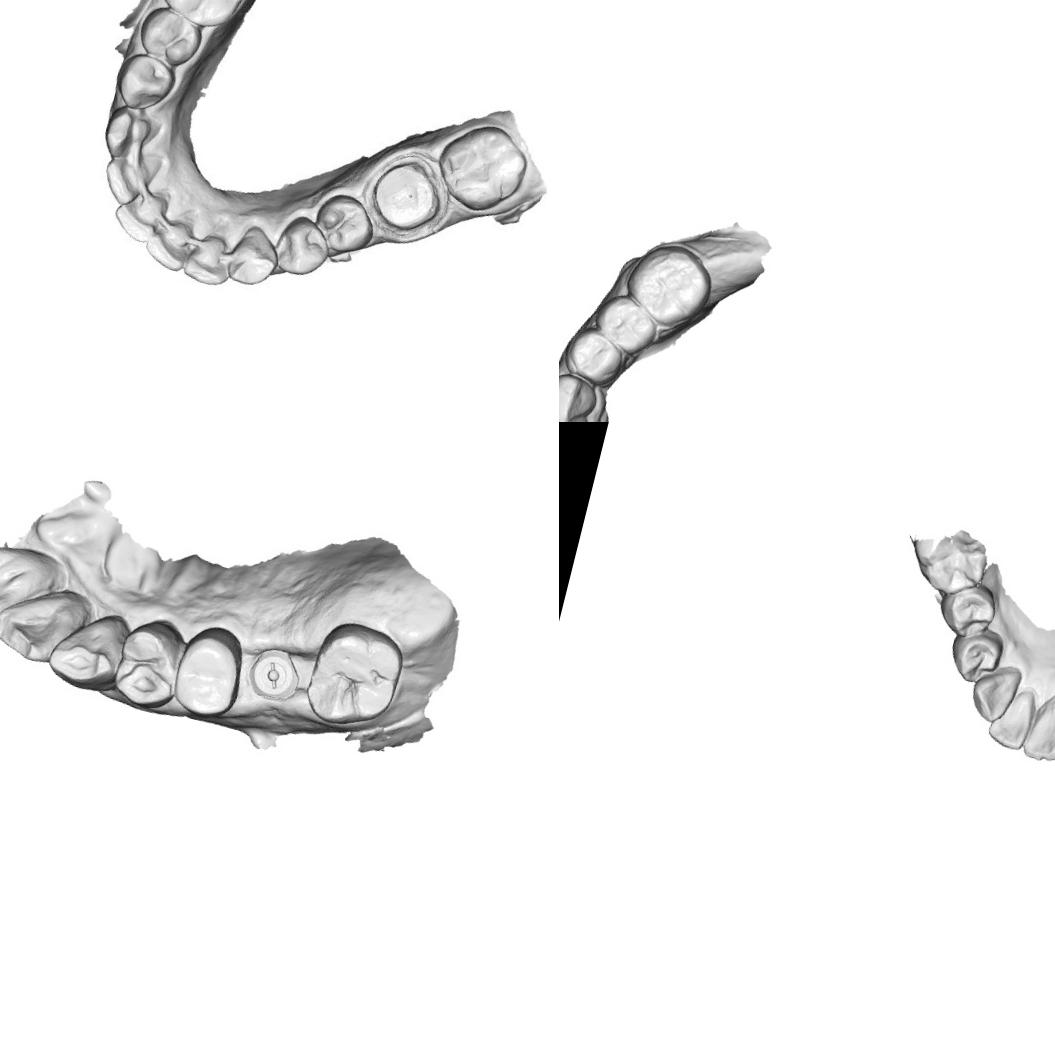canine: (42, 602, 130, 697), (965, 659, 1024, 728), (228, 224, 280, 285), (104, 106, 154, 162), (559, 365, 603, 422)
crown: (364, 148, 450, 235)
implant_minus: (245, 644, 302, 704)
incisor: (0, 576, 81, 670), (0, 533, 59, 636), (984, 681, 1040, 753), (94, 145, 152, 210), (178, 230, 238, 290), (108, 192, 165, 246), (143, 219, 196, 277), (1019, 696, 1055, 765)
molar: (296, 611, 410, 739), (618, 235, 720, 335), (431, 118, 528, 214), (902, 518, 995, 604), (153, 0, 261, 30)
premolar: (166, 620, 252, 721), (108, 612, 190, 716), (588, 286, 665, 358), (932, 574, 1002, 644), (559, 320, 630, 388), (311, 191, 380, 260), (942, 620, 1008, 689), (140, 4, 202, 67), (274, 214, 334, 276), (117, 53, 176, 112)
